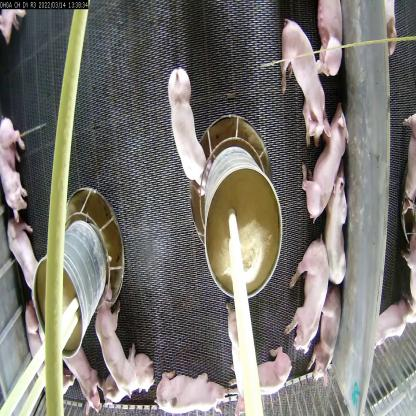Pig: (269, 4, 325, 153), (169, 73, 215, 196), (301, 101, 348, 219), (222, 294, 262, 410), (288, 247, 330, 350), (94, 296, 138, 394), (324, 173, 358, 293), (153, 362, 231, 410), (0, 115, 33, 222), (309, 288, 345, 380), (99, 353, 167, 400), (7, 206, 37, 307), (54, 354, 101, 416), (307, 0, 340, 76), (243, 350, 295, 398)
